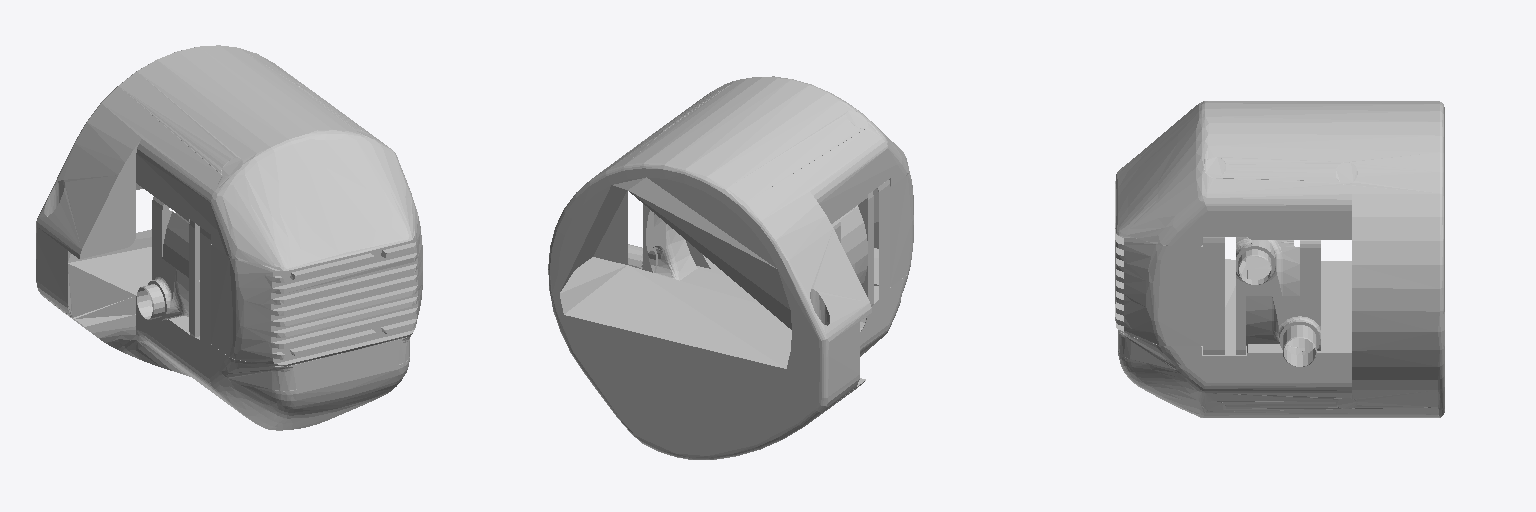
Rendered from LeftWristRollLink.obj.
3 views of the same model, side by side, from view 1: azimuth 30°, elevation 25°; view 2: azimuth 150°, elevation 25°; view 3: azimuth 270°, elevation 25° (orthographic).
Size of the model in its own units: 0.094 by 0.0935 by 0.0957.